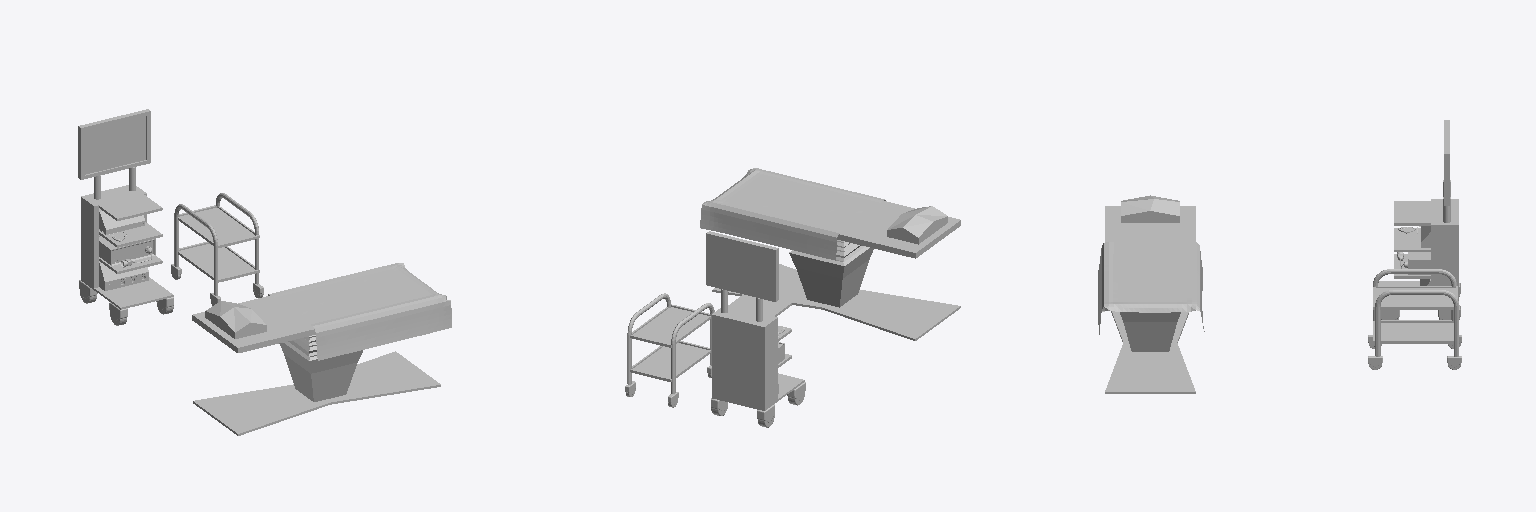
File: hospital-bed.obj
3 views of the same model, side by side, from view 1: azimuth 30°, elevation 25°; view 2: azimuth 150°, elevation 25°; view 3: azimuth 270°, elevation 25° (orthographic).
Parts seen in each view (by area): view 1: Obj_OP_Bett, Obj_Computer, Obj_Schiebewagen; view 2: Obj_OP_Bett, Obj_Computer, Obj_Schiebewagen; view 3: Obj_OP_Bett, Obj_Computer, Obj_Schiebewagen.
Part boxes in pixels (bbox=[...]): Obj_OP_Bett: bbox=[192, 263, 451, 435]; Obj_Computer: bbox=[78, 109, 173, 325]; Obj_Schiebewagen: bbox=[171, 193, 263, 305]; Obj_OP_Bett: bbox=[700, 168, 960, 340]; Obj_Computer: bbox=[706, 231, 805, 427]; Obj_Schiebewagen: bbox=[625, 293, 714, 407]; Obj_OP_Bett: bbox=[1098, 195, 1204, 393]; Obj_Computer: bbox=[1378, 120, 1460, 319]; Obj_Schiebewagen: bbox=[1368, 269, 1461, 369].
Bounding box in the file's own units: 5.36 × 4.38 × 7.99.